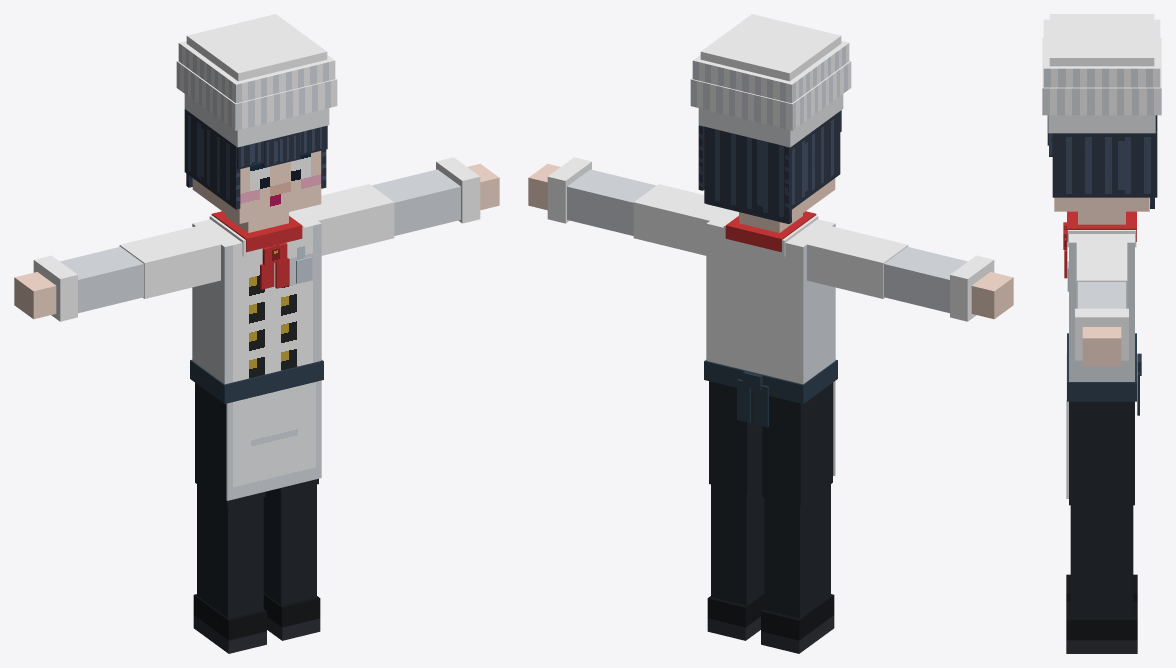
File: anime_male_chef.fbx
The picture shows the model from 3 angles, left to right: view 1: azimuth 30°, elevation 25°; view 2: azimuth 150°, elevation 25°; view 3: azimuth 270°, elevation 25°; orthographic projection.
Visible parts, largest first — view 1: jacket_body, apron_drape, left_shin, right_shin, hat_crown, head_base, left_sleeve_upper, hat_lower_puff, right_sleeve_upper, right_sleeve_lower, left_sleeve_lower, hat_upper_puff (+14 smaller); view 2: jacket_body, left_shin, left_thigh, hair_back, right_shin, hat_crown, right_thigh, left_sleeve_upper, hat_lower_puff, right_sleeve_upper, right_sleeve_lower, left_sleeve_lower (+13 smaller); view 3: right_shin, right_thigh, hair_side_right, hat_crown, hat_lower_puff, jacket_body, hat_upper_puff, right_sleeve_upper, hat_band, right_shoe, right_hand, apron_waistband (+9 smaller).
Boxes of the visible parts, <box> form: jacket_body: <box>192,209,321,384</box>; apron_drape: <box>226,380,321,500</box>; left_shin: <box>197,484,263,618</box>; right_shin: <box>263,484,316,605</box>; hat_crown: <box>186,14,327,81</box>; head_base: <box>192,151,321,223</box>; left_sleeve_upper: <box>119,226,220,298</box>; hat_lower_puff: <box>176,61,337,130</box>; right_sleeve_upper: <box>302,184,394,255</box>; right_sleeve_lower: <box>371,169,460,235</box>; left_sleeve_lower: <box>60,246,143,313</box>; hat_upper_puff: <box>178,41,335,103</box>; jacket_body: <box>706,209,835,384</box>; left_shin: <box>764,484,830,618</box>; left_thigh: <box>762,383,832,506</box>; hair_back: <box>704,126,791,223</box>; right_shin: <box>711,482,764,605</box>; hat_crown: <box>700,14,841,81</box>; right_thigh: <box>709,381,762,492</box>; left_sleeve_upper: <box>807,226,908,298</box>; hat_lower_puff: <box>690,61,851,130</box>; right_sleeve_upper: <box>633,184,725,255</box>; right_sleeve_lower: <box>567,169,656,235</box>; left_sleeve_lower: <box>884,246,967,313</box>; right_shin: <box>1070,505,1133,619</box>; right_thigh: <box>1069,401,1134,505</box>; hair_side_right: <box>1052,130,1157,197</box>; hat_crown: <box>1049,14,1154,66</box>; hat_lower_puff: <box>1042,38,1161,115</box>; jacket_body: <box>1069,234,1134,381</box>; hat_upper_puff: <box>1043,19,1160,87</box>; right_sleeve_upper: <box>1076,242,1127,308</box>; hat_band: <box>1048,115,1155,133</box>; right_shoe: <box>1066,601,1137,640</box>; right_hand: <box>1082,327,1121,366</box>; apron_waistband: <box>1067,333,1136,401</box>.
Bounding box in the file's own units: 229 × 275 × 50.
1 material, 1 textured.
